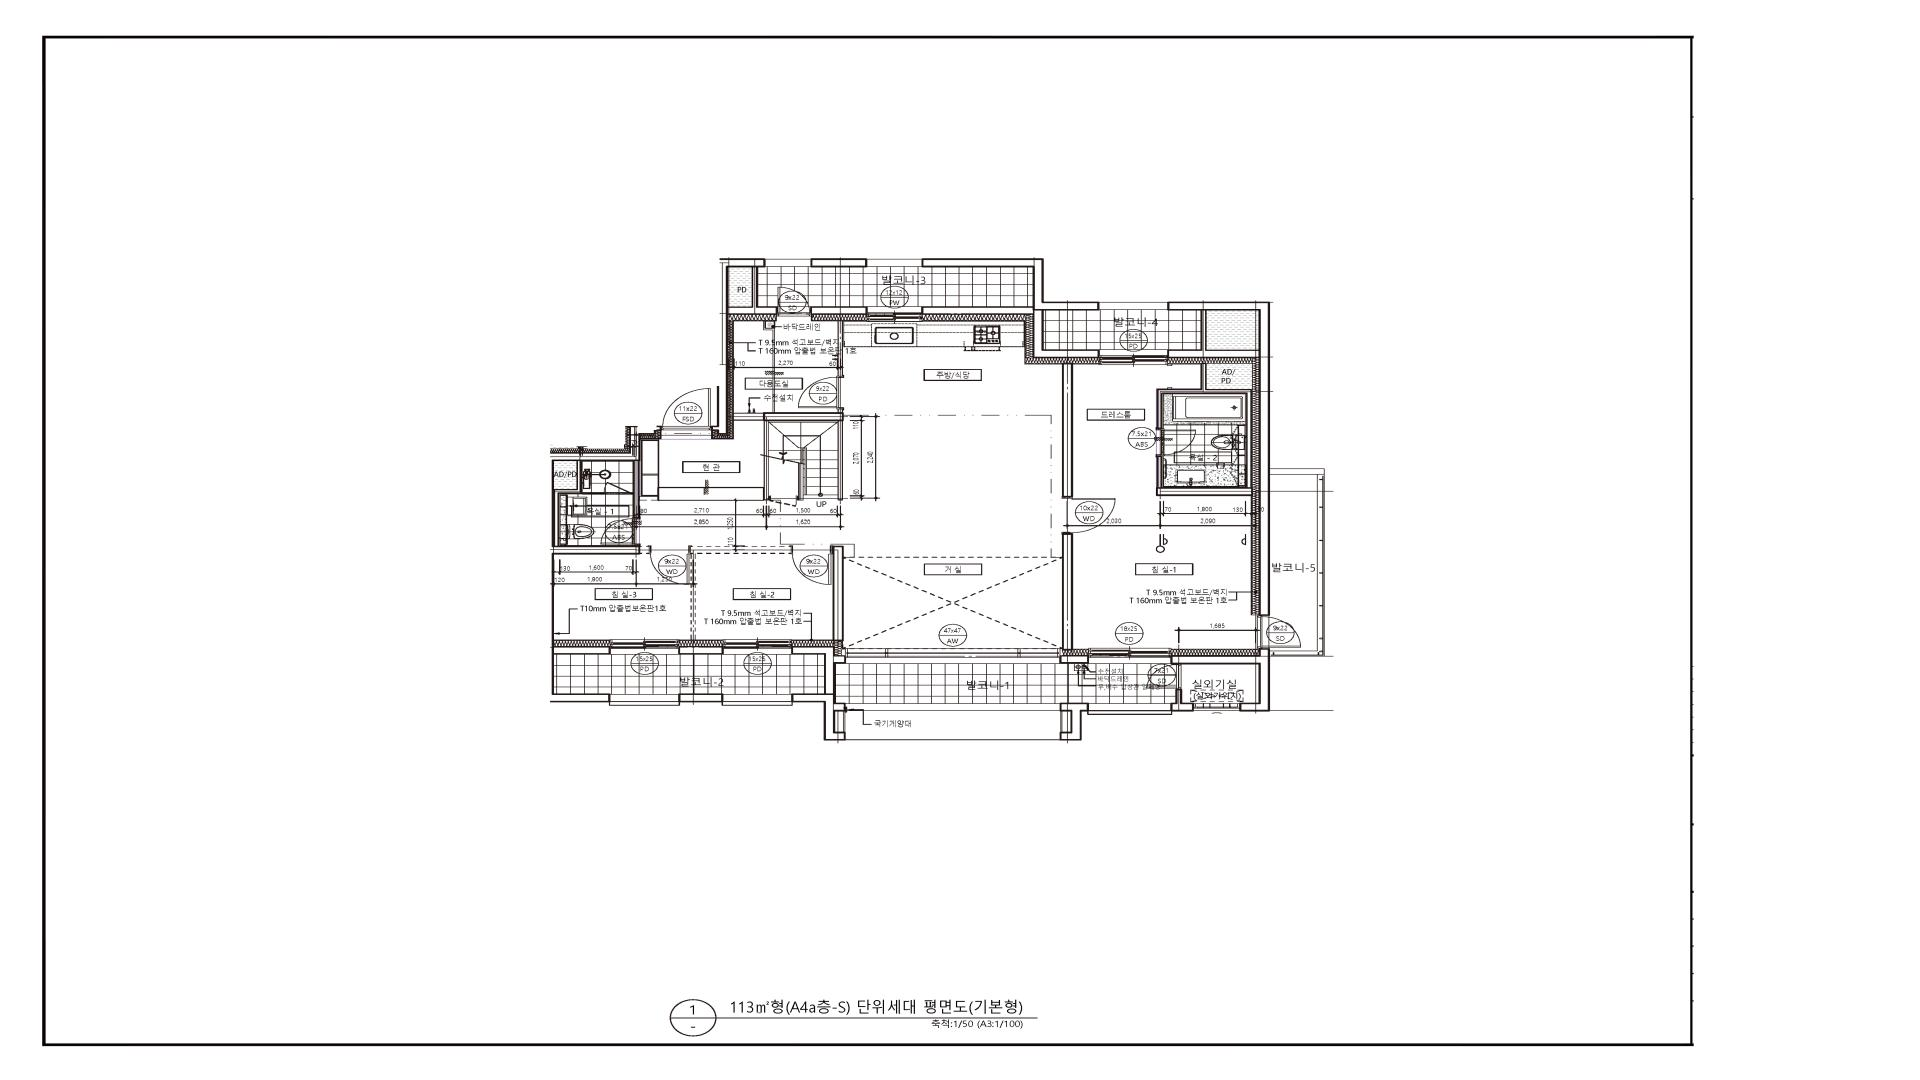door: (662, 388, 711, 431), (1062, 497, 1117, 534), (649, 546, 691, 585), (791, 546, 832, 584), (796, 376, 843, 409), (1258, 615, 1302, 649), (599, 517, 641, 546), (1156, 429, 1196, 456), (777, 286, 811, 316), (1146, 665, 1182, 690), (604, 481, 633, 495), (769, 496, 798, 508)
wall: (1167, 302, 1325, 712), (550, 426, 662, 703), (1156, 363, 1253, 496), (732, 409, 843, 501), (691, 546, 791, 641), (711, 258, 765, 434), (922, 258, 1098, 311), (923, 306, 1098, 359), (1168, 311, 1258, 359), (554, 462, 604, 546), (791, 646, 845, 694), (791, 694, 845, 741), (728, 268, 777, 315), (1062, 363, 1073, 497), (1062, 534, 1073, 650), (1059, 703, 1089, 741), (832, 546, 844, 641), (811, 258, 866, 268), (811, 306, 866, 315), (1171, 690, 1193, 712), (554, 646, 609, 654), (679, 694, 723, 703), (633, 462, 640, 518), (679, 646, 723, 654), (837, 320, 843, 376), (1060, 655, 1088, 663), (798, 462, 803, 501), (640, 546, 649, 554)
window: (845, 647, 1060, 663), (845, 703, 1060, 712), (1088, 647, 1171, 665), (1098, 349, 1168, 365), (609, 640, 679, 654), (723, 640, 791, 654), (1089, 703, 1171, 715), (866, 306, 923, 322), (723, 694, 793, 705), (611, 694, 679, 705), (1098, 302, 1167, 311), (866, 258, 922, 268), (1193, 703, 1240, 712), (765, 258, 811, 268)
